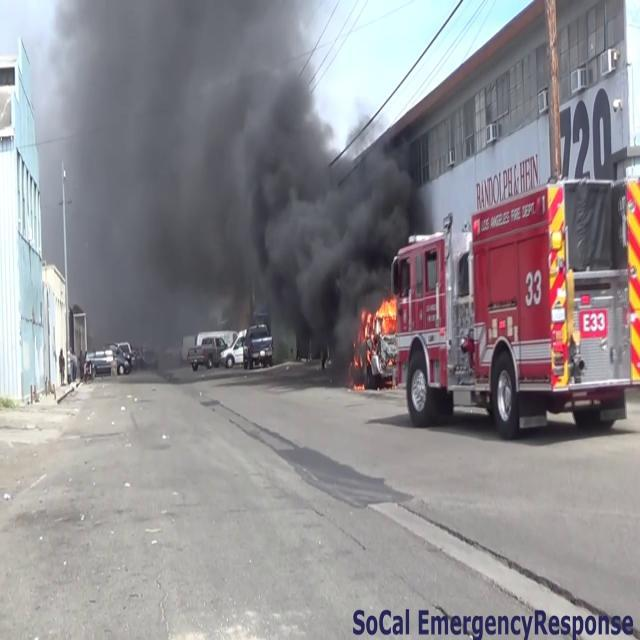Fire: (624, 171, 640, 383), (360, 289, 401, 341)
Smoke: (61, 0, 430, 351)
